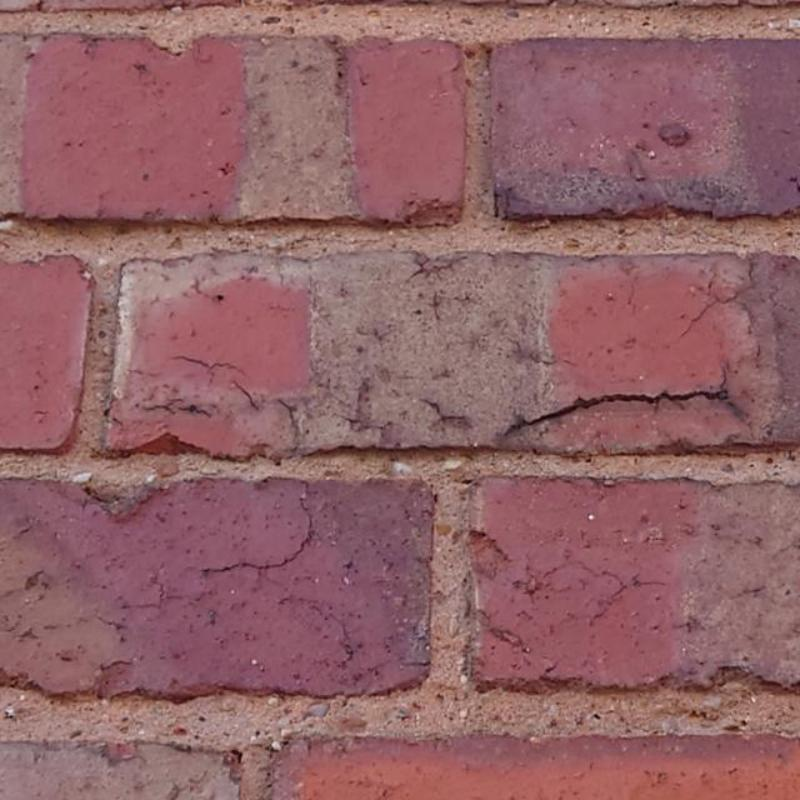pothole: (502, 365, 731, 433), (202, 480, 321, 573), (167, 355, 249, 395), (232, 379, 260, 412)
